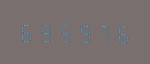five: (56, 19, 74, 43)
nine: (36, 19, 54, 43), (75, 20, 93, 44)
seven: (94, 20, 112, 44)
six: (17, 19, 35, 43), (113, 20, 131, 44)
